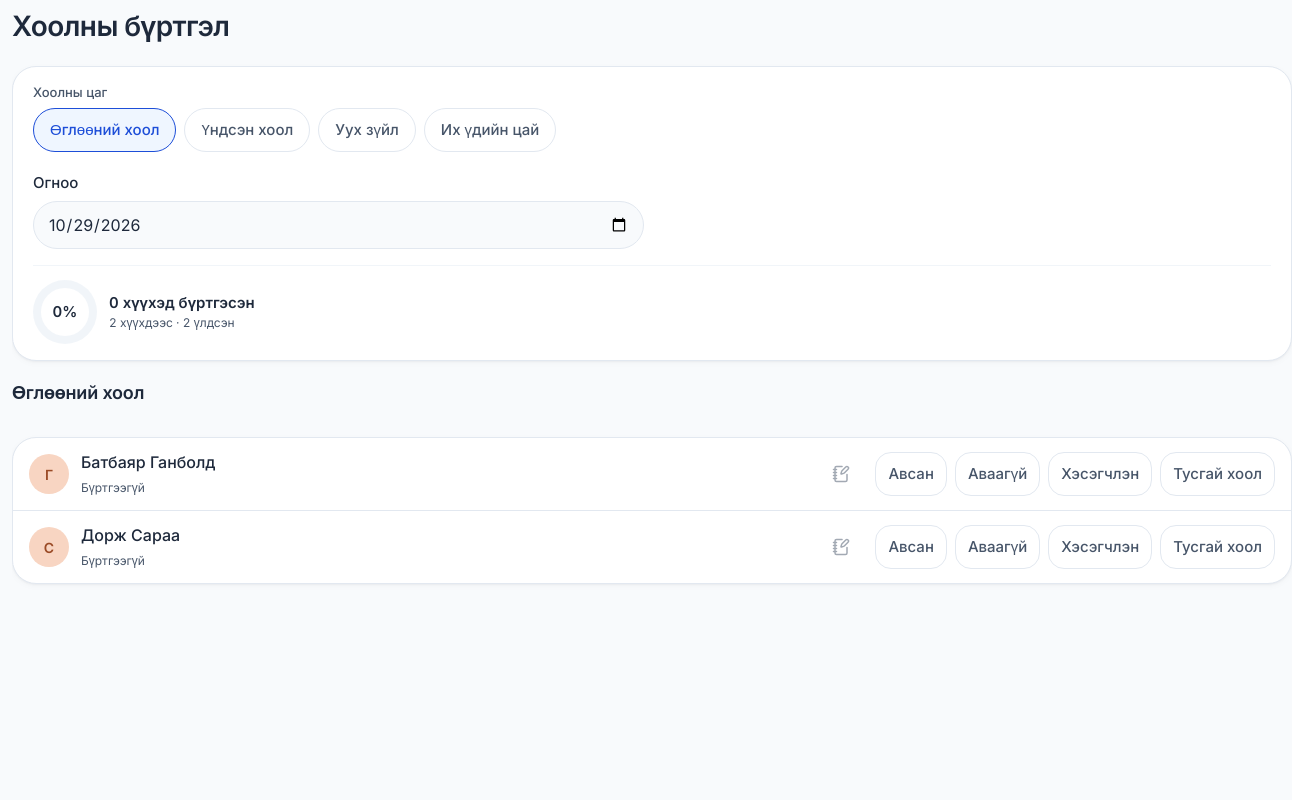
Test: хоолны цаг › switching sitting fetches the newly selected one
This screenshot has width=1292, height=800.
Expected: the text "Батбаяр Ганболд" is shown, [81,452,215,472]
Click the button "Их үдийн цай": (490, 130) [424,108,556,152]
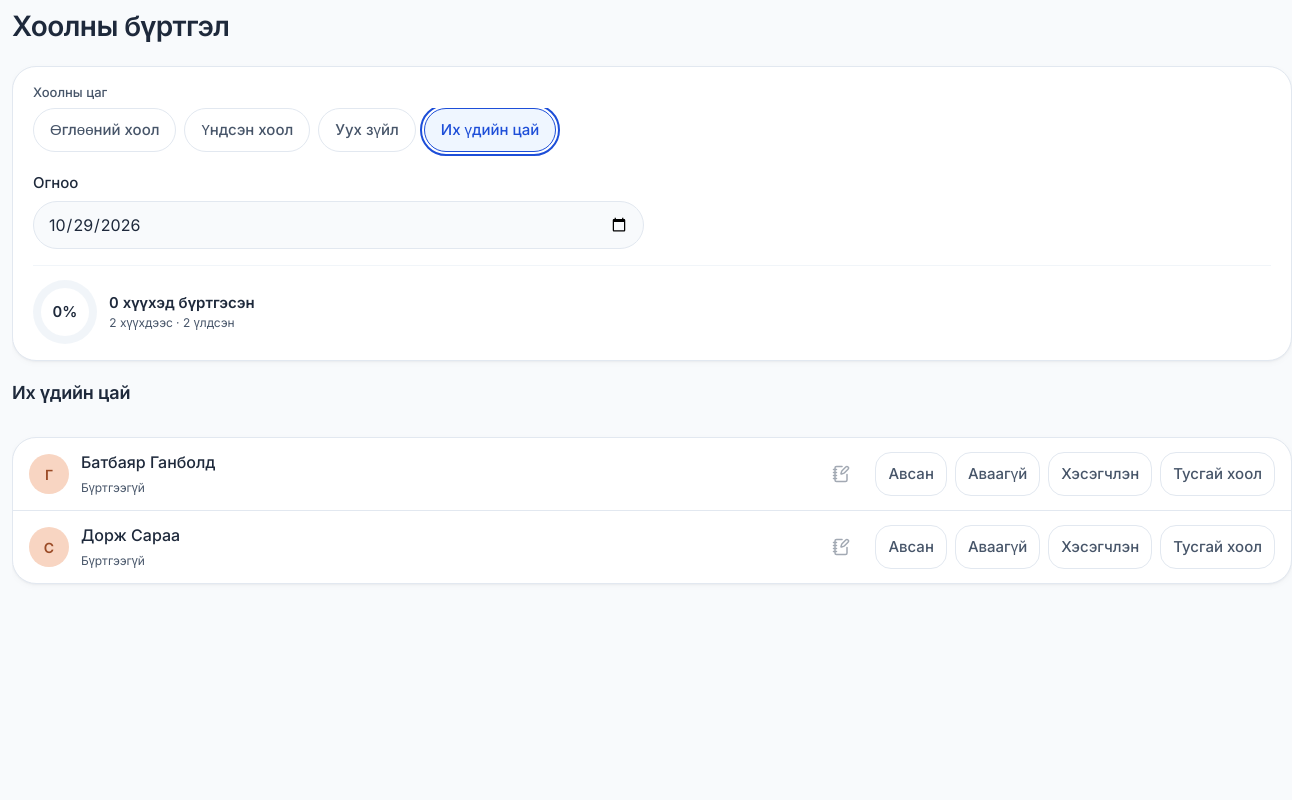
Expected: the heading "Их үдийн цай" is shown, [12,381,130,405]
